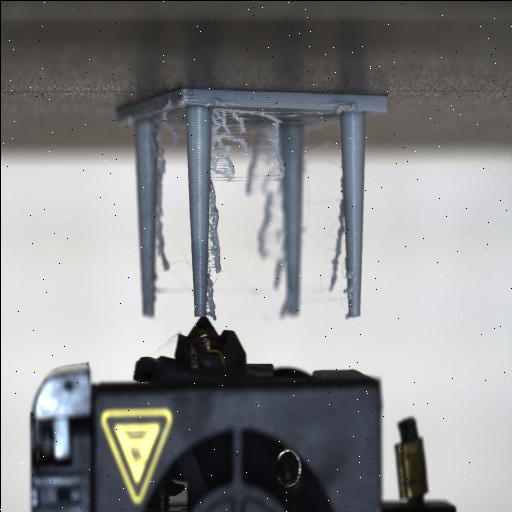stringing: (148, 102, 344, 320)
